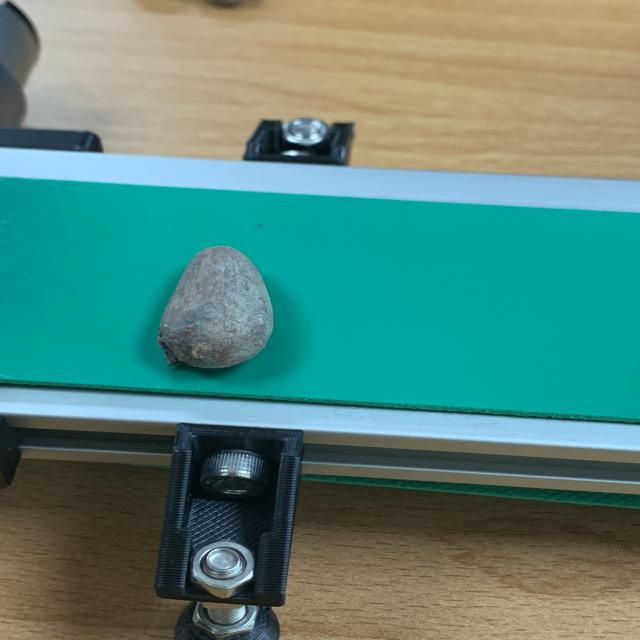Fine_cocoabeans: (126, 230, 352, 406)
